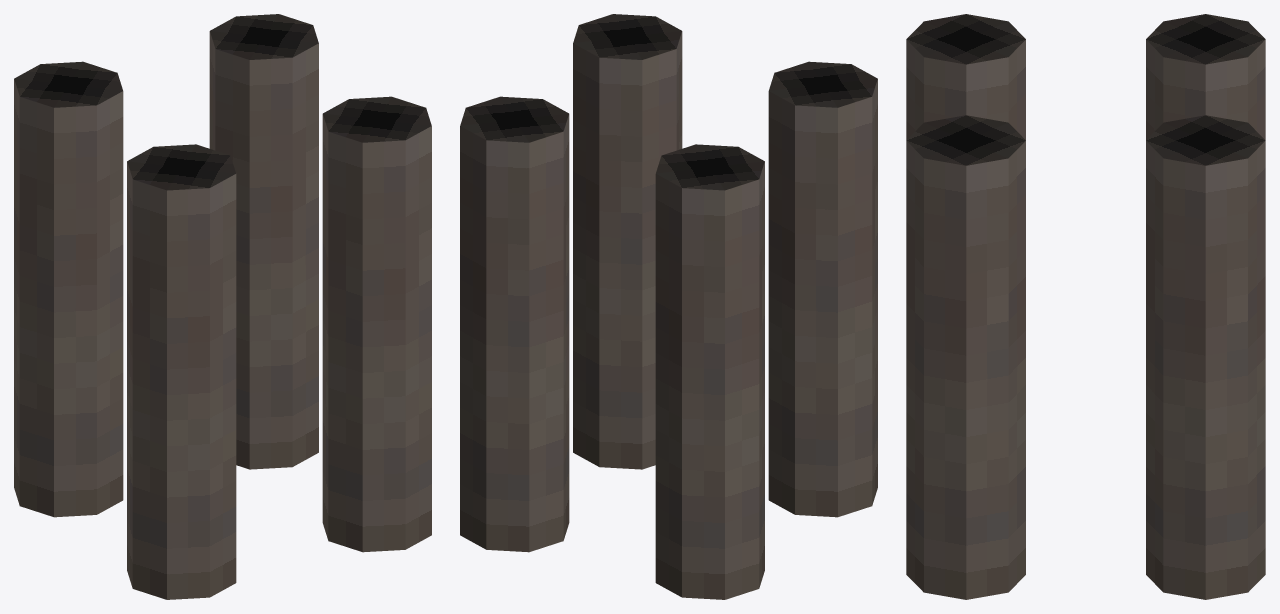
Rendered from pipe_quad_rusty.obj.
3 views of the same model, side by side, from view 1: azimuth 30°, elevation 25°; view 2: azimuth 150°, elevation 25°; view 3: azimuth 270°, elevation 25° (orthographic). The views are drawn at different scales.
Visible parts, largest first — view 1: Side, Top; view 2: Side, Top; view 3: Side, Top.
Part boxes in pixels (<box>): Side: <box>14,31,431,599</box>; Top: <box>14,14,431,190</box>; Side: <box>460,31,877,599</box>; Top: <box>460,14,877,190</box>; Side: <box>906,39,1265,599</box>; Top: <box>906,14,1265,165</box>.
Bounding box in the file's own units: 0.75 × 1 × 0.75.
